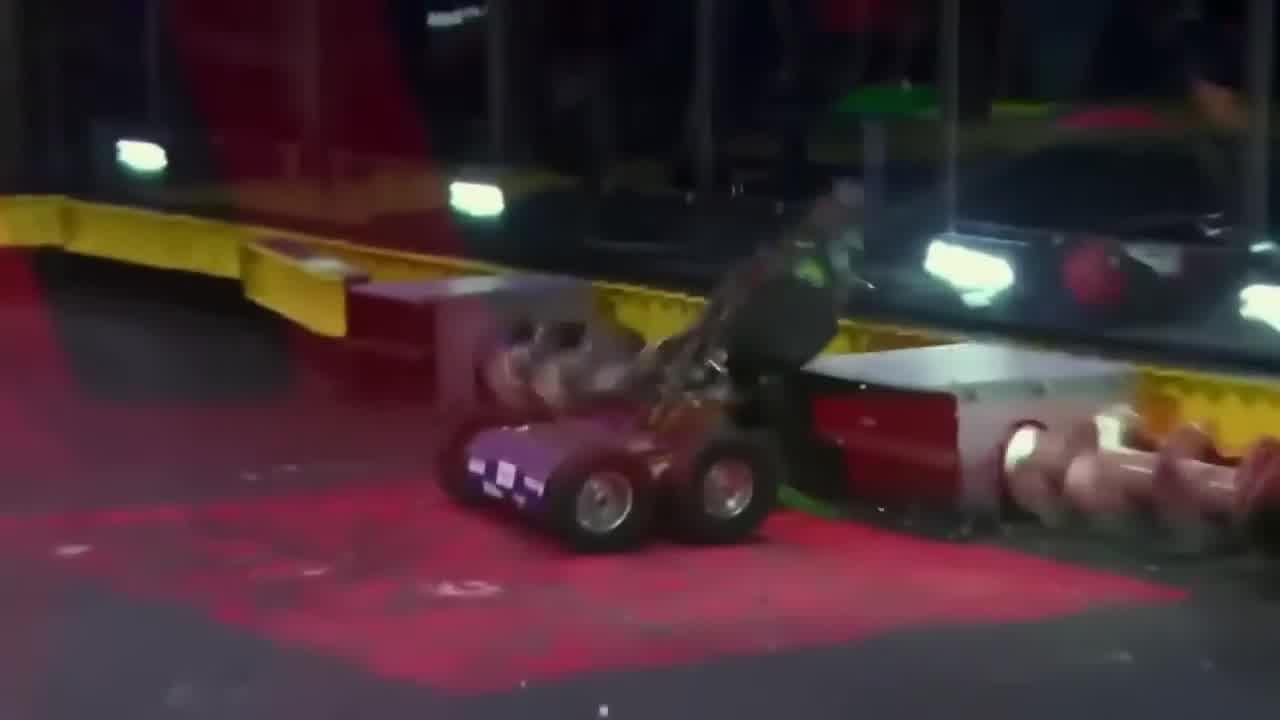combatbot: (429, 396, 777, 558)
